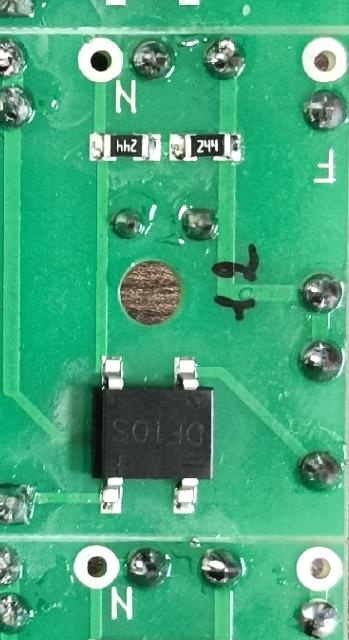chip-resistor: (167, 130, 244, 164), (85, 130, 163, 163)
ic: (95, 353, 218, 516)
